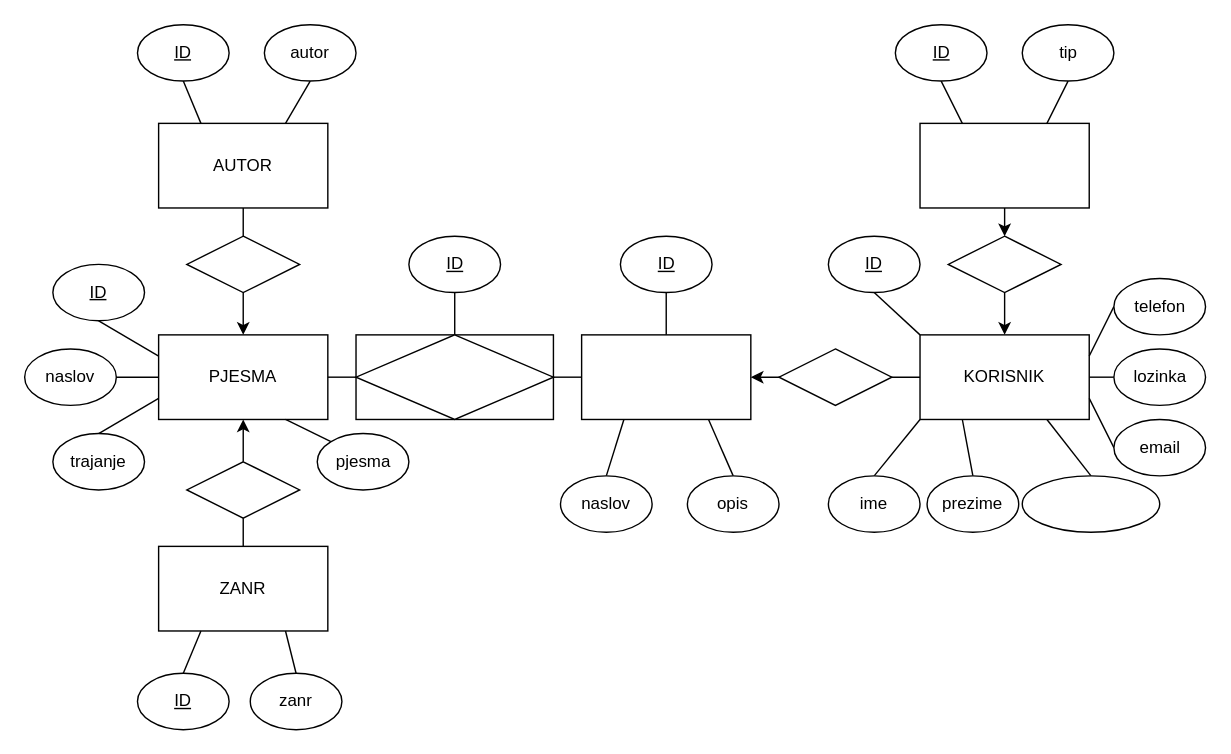
Image size: 1231x754. Some labels were removed from this diagram. The centre of each missing label's shape, as x and y in pixels:
korisnicko_ime: the point at 1090,503
PJESMA_PLEJLISTE: the point at 454,376
PLEJLISTA: the point at 665,376
TIP_KORISNIKA: the point at 1004,165
